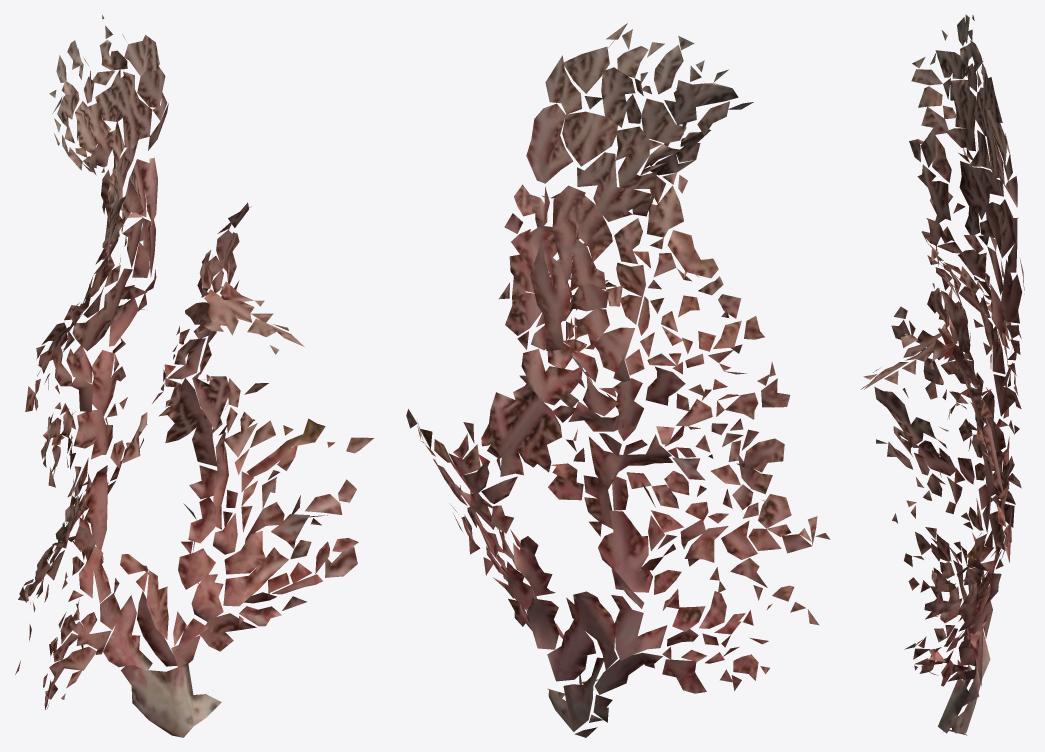
Rendered from coral-stylaster.glb.
3 renders of one model, left to right at view 1: azimuth 30°, elevation 25°; view 2: azimuth 150°, elevation 25°; view 3: azimuth 270°, elevation 25°, orthographic. The views are drawn at different scales.
Parts seen in each view (by area): view 1: coral-stylaster; view 2: coral-stylaster; view 3: coral-stylaster.
Boxes of the visible parts, <box> form: coral-stylaster: <box>15,15,373,737</box>; coral-stylaster: <box>406,23,830,737</box>; coral-stylaster: <box>861,14,1024,735</box>.
Size of the model in its own units: 0.4948 by 0.8963 by 0.2003.
1 material, 1 textured.
